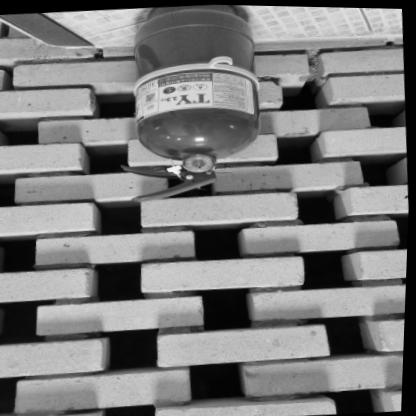FE: (111, 2, 270, 206)
